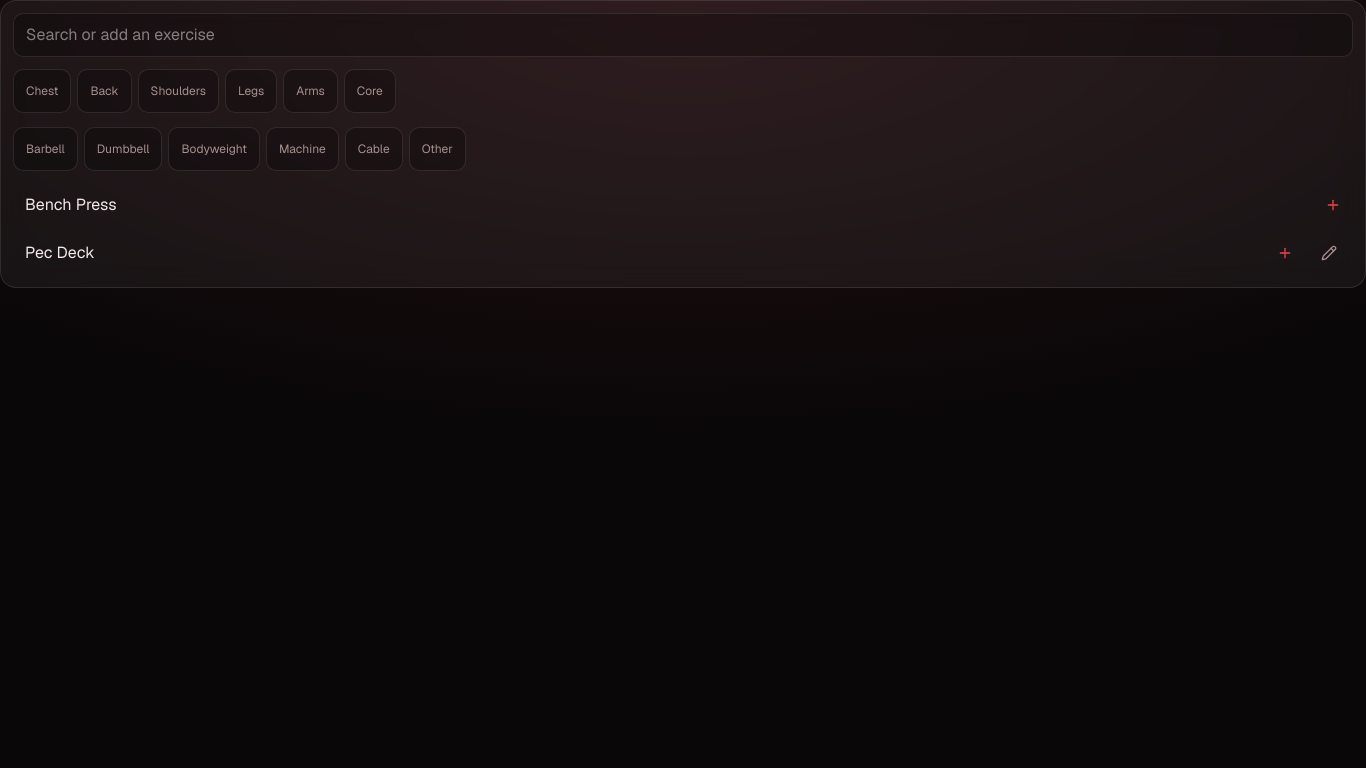
it: ExercisePicker editing › shows the action's error and keeps the form open
Click the button named "Edit Pec Deck". click: (1331, 253)
box: [1309,231,1353,275]
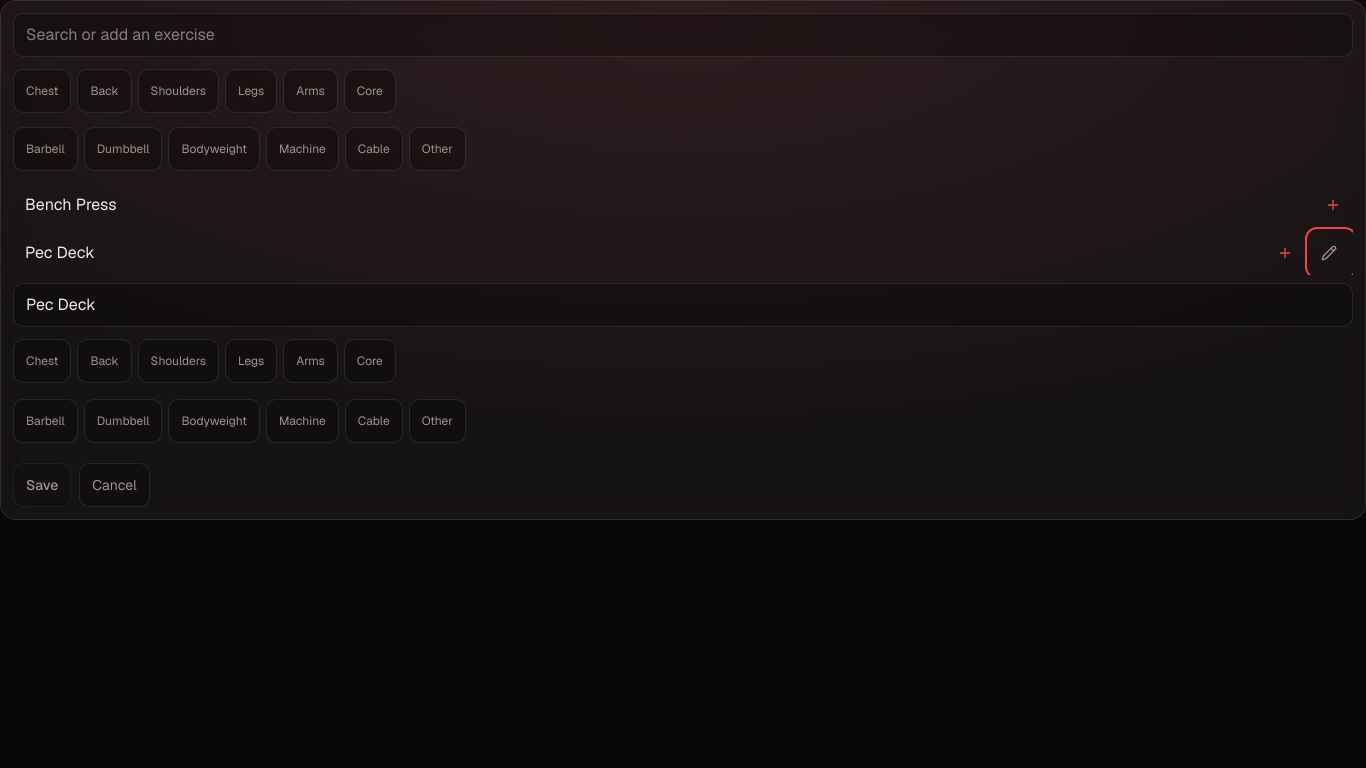
Click the radio button labelled "Chest". click: (42, 361)
box: [13,339,72,383]
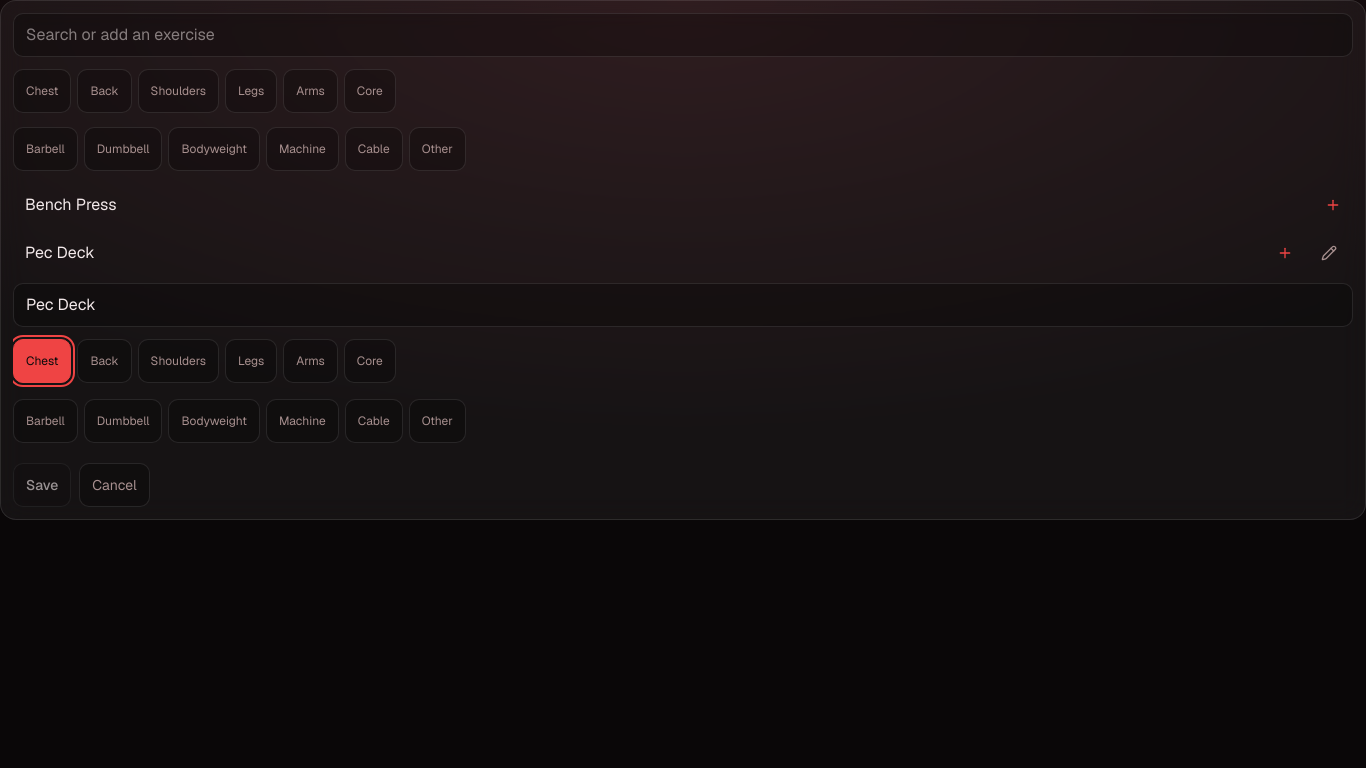
Click the radio button labelled "Machine". click: (302, 421)
box: [266,399,339,443]
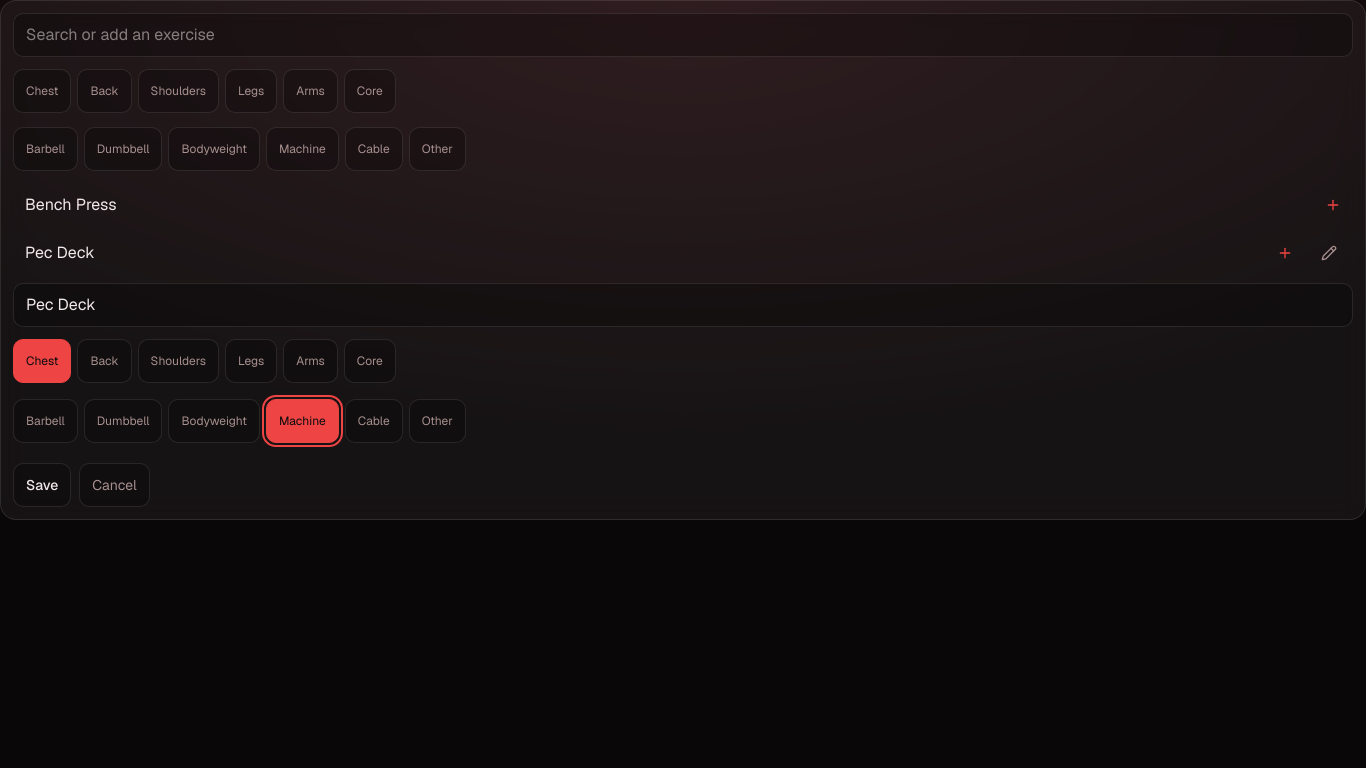
Click the button "Save". click: (42, 485)
box: [13,463,71,507]
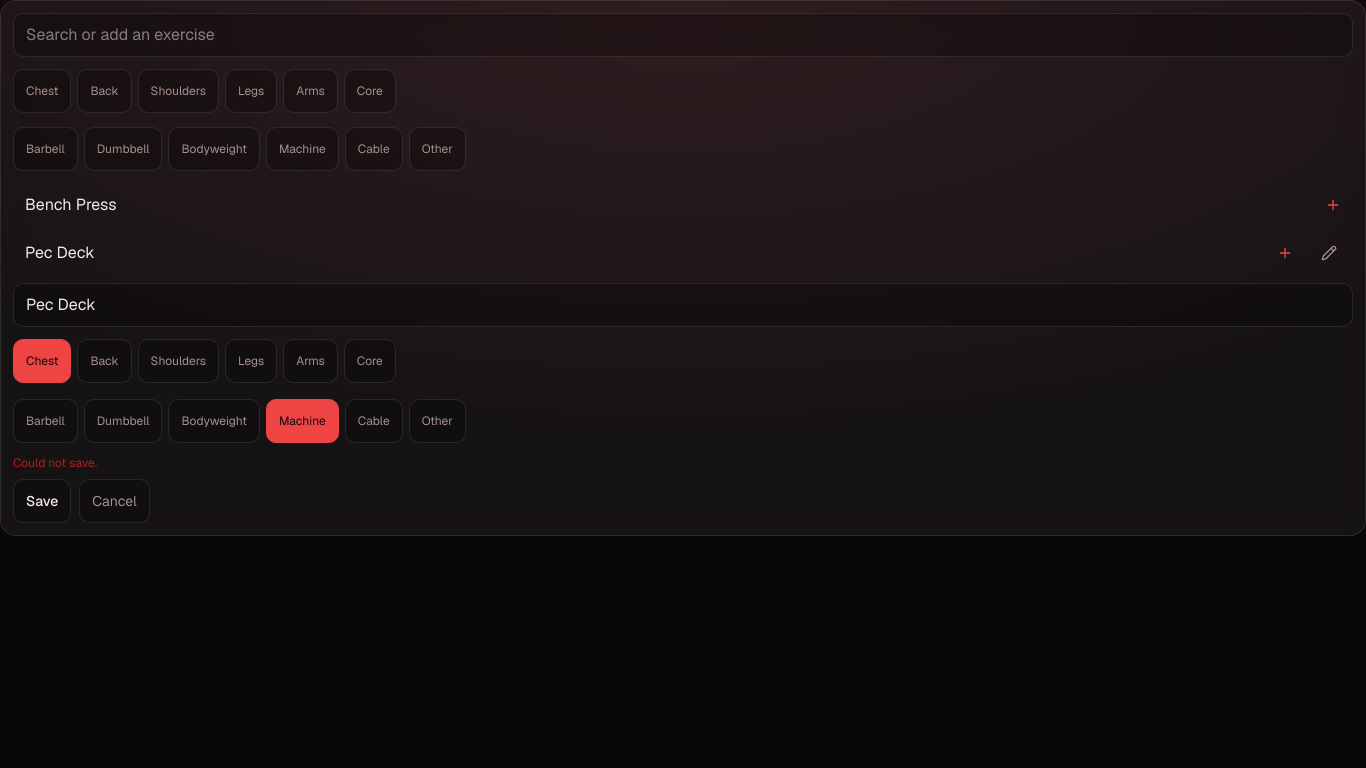
Check: the field named "Exercise name" is shown, box [13,283,1353,327]
Check: the message reads "Could not save.", box [13,455,97,471]
